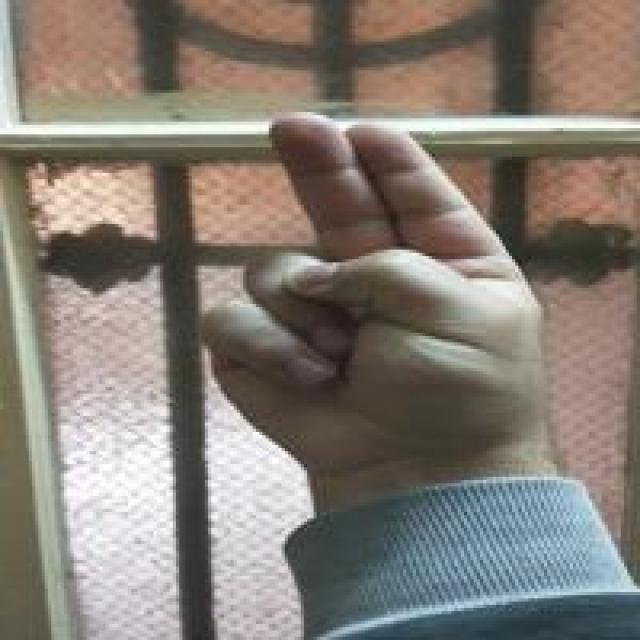U: (194, 99, 552, 458)
